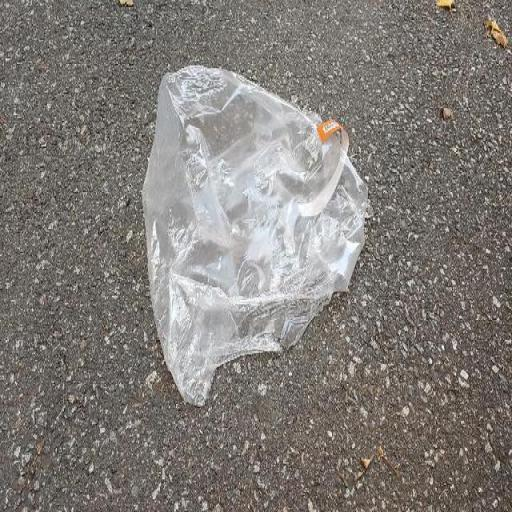plastic-bag: (140, 62, 374, 411)
